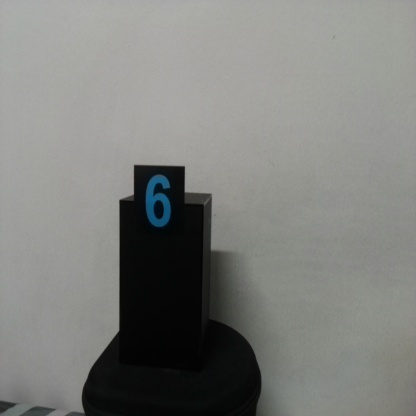id_6: (133, 165, 185, 246)
